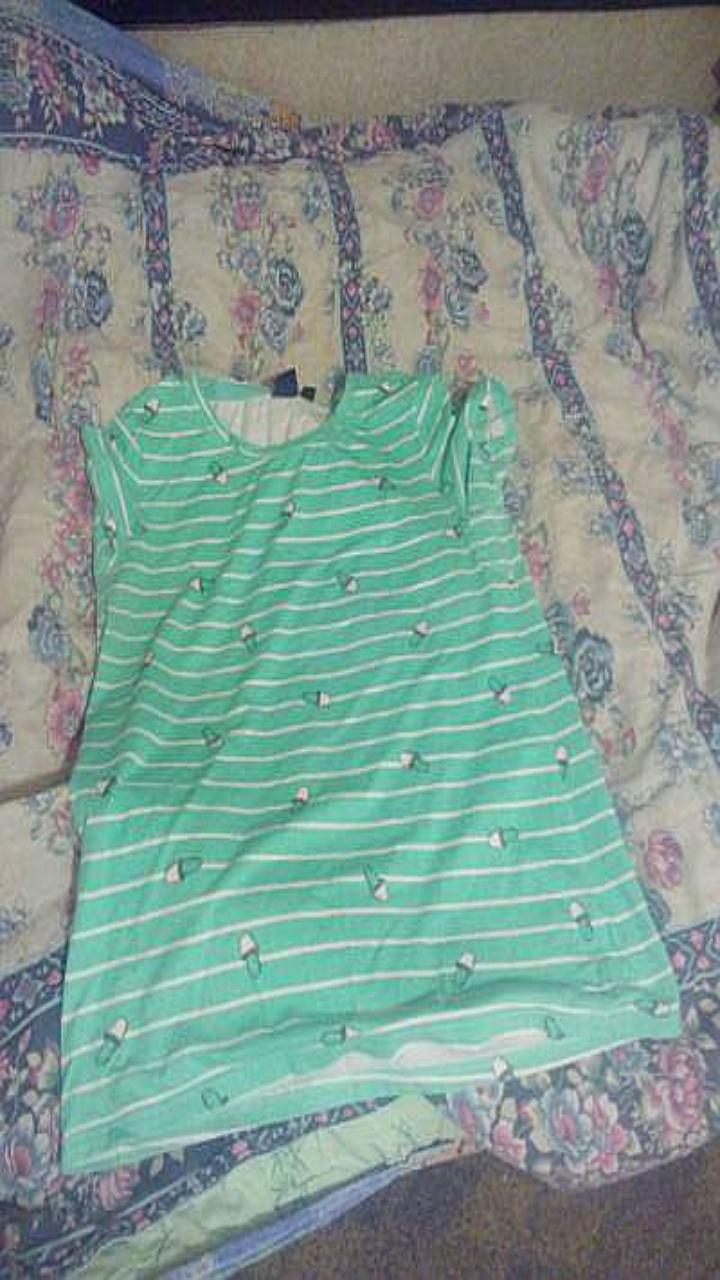T-Shirt: (62, 374, 678, 1171)
